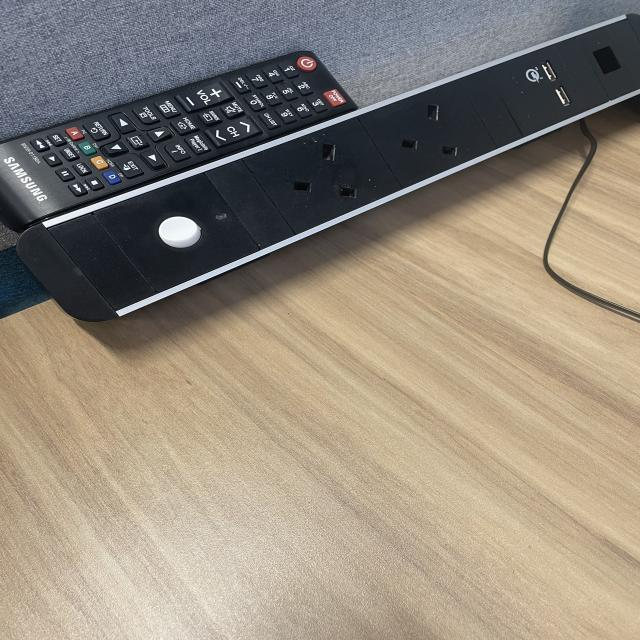remote: (0, 48, 362, 236)
